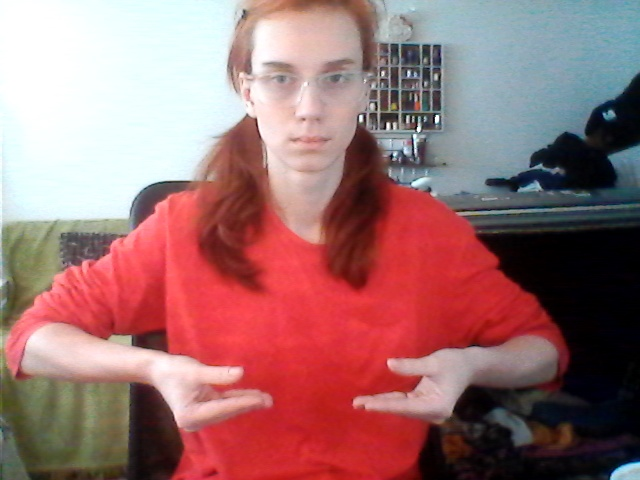drzat: (158, 344, 463, 428)
